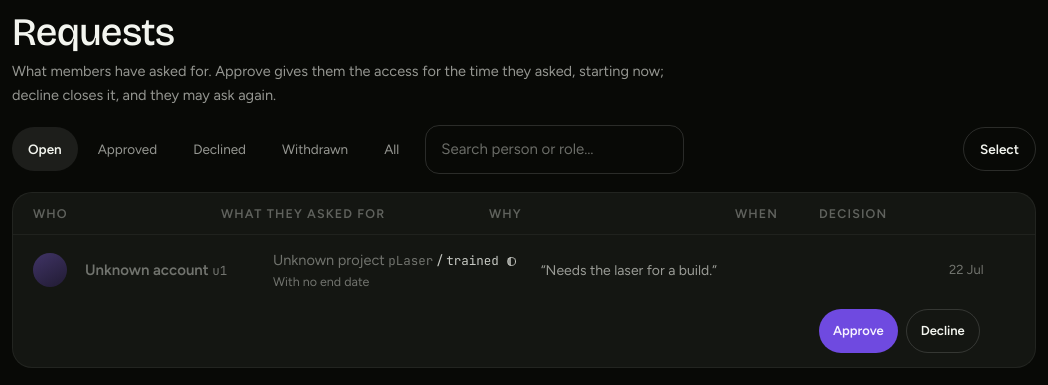
it: a decided request names its person and its next step › approving with nothing waiting says Approved, sent and not yet seen
This screenshot has width=1048, height=385.
Click the button "Approve".
click(858, 331)  # box left=819, top=309, right=898, bottom=353
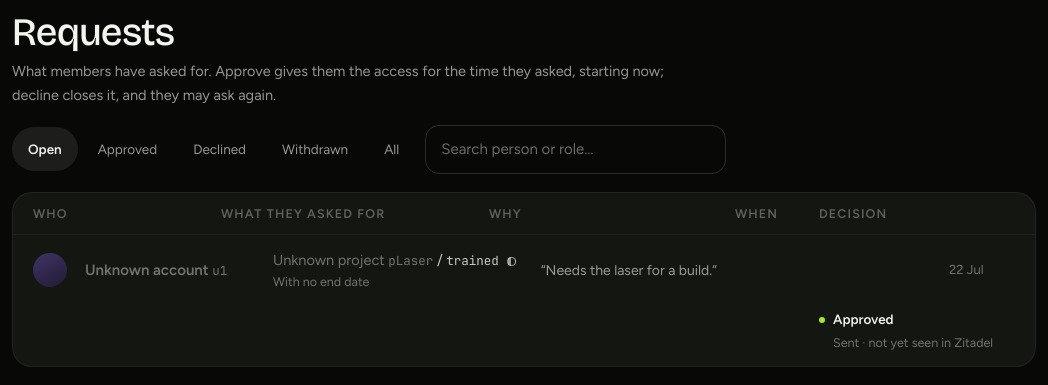
Check: the message reads "Approved Sent · not yet seen in Zitadel", box left=819, top=309, right=1015, bottom=352
